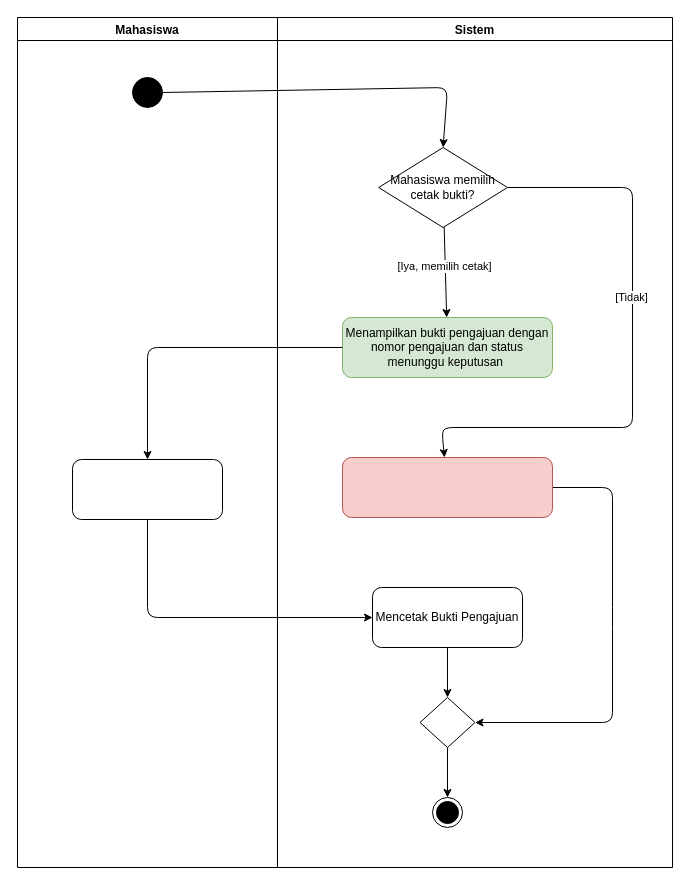
The diagram is 690 pixels wide and 885 high, and some of its shapes have lost their labels. The box of each missing label's shape, as (x1, y1, x2, y2) in pixels:
Mengonfirmasi pencetakan: (72, 458, 222, 520)
Menutup konfirmasi tanpa mencetak bukti dan pengajuan tetap tersimpan: (342, 456, 552, 518)
